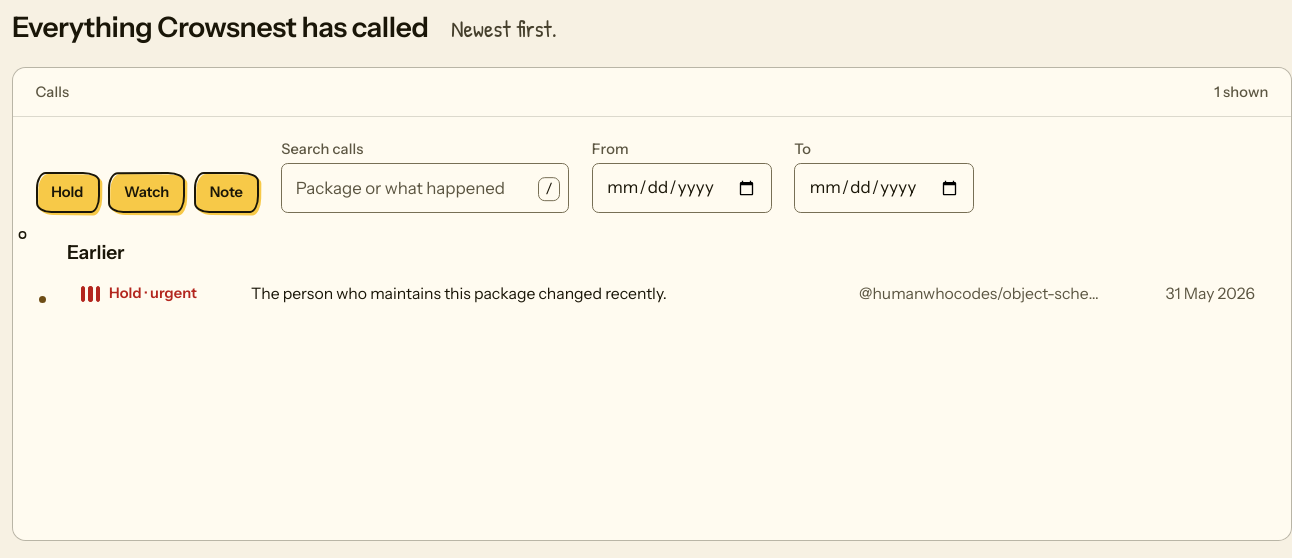
Log › searches the plain text, not pattern codes
Type "maintainer_takeover" into the field labelled "Search calls" at x=425, y=188, box [281, 163, 569, 213]
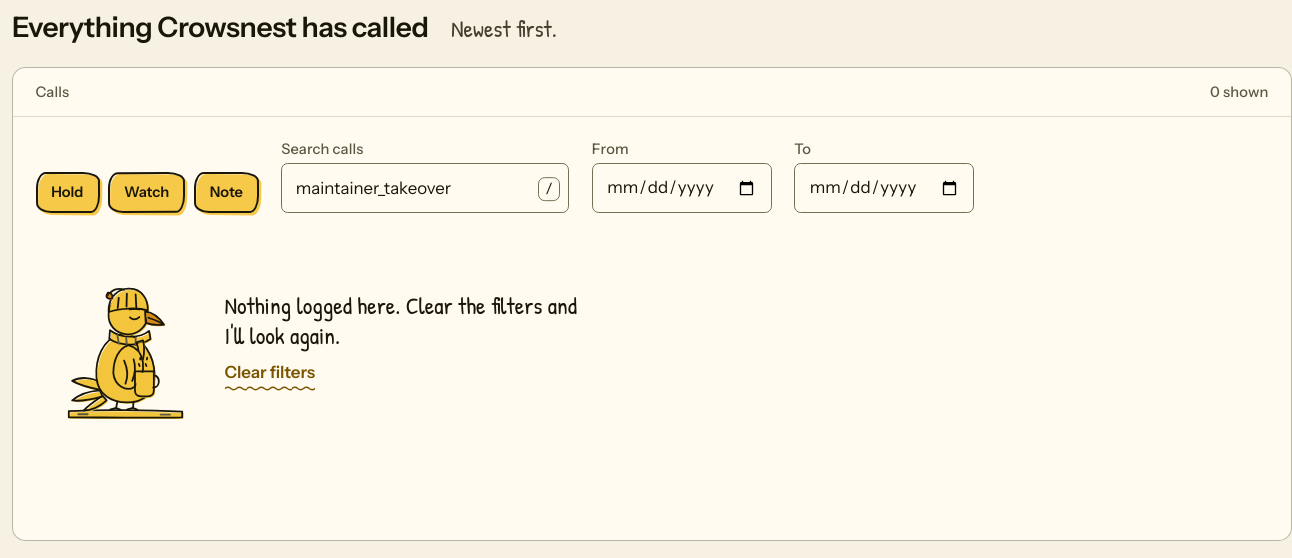
Result: the text "Nothing logged here. Clear the filters and I'll look again." is shown at [224, 291, 584, 350]
